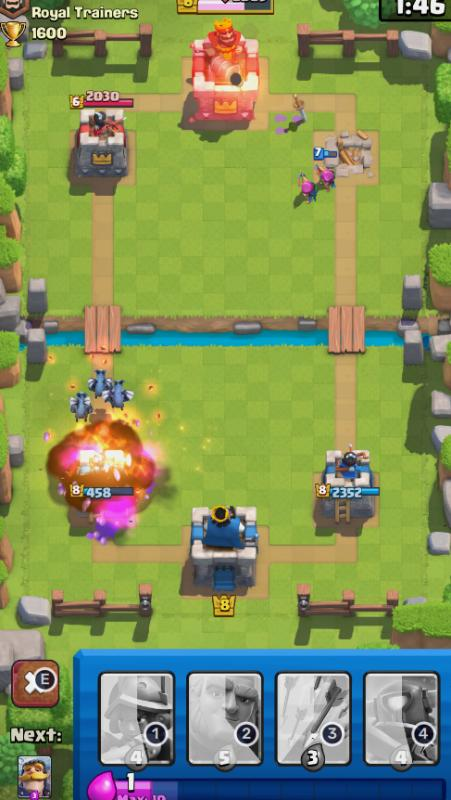archere: (313, 150, 348, 195), (289, 170, 331, 205)
gargouille: (111, 377, 154, 423), (57, 378, 97, 425), (89, 363, 117, 401)
